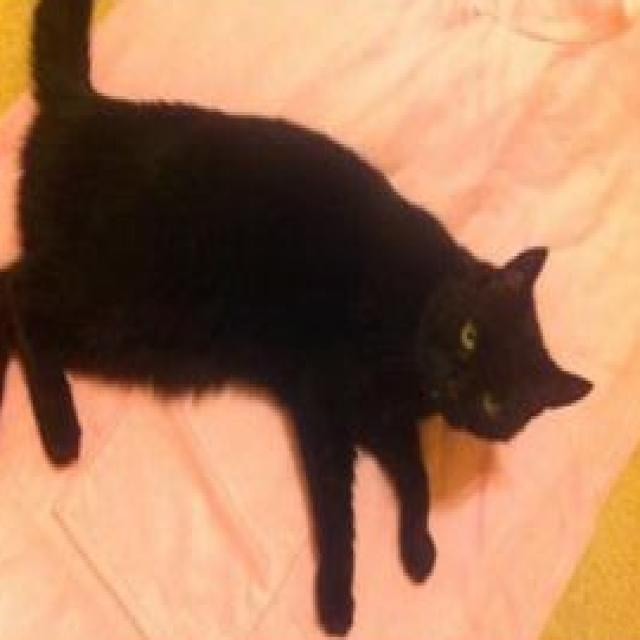Bombay: (0, 0, 597, 637)
